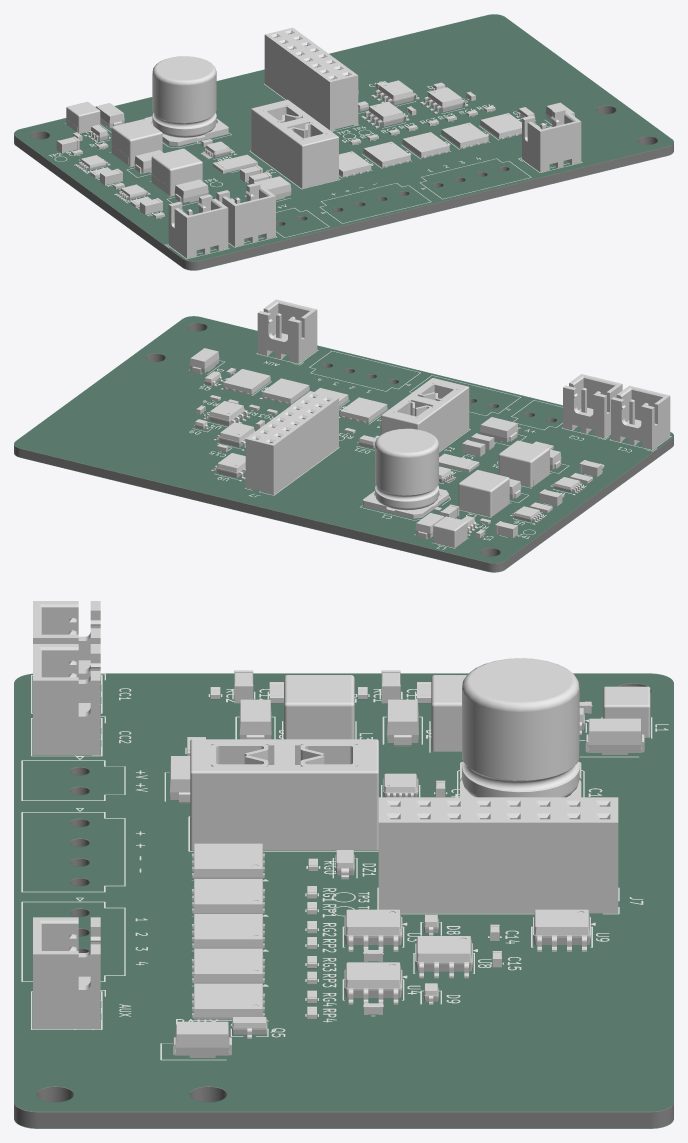
3 renders of one model, top to bottom at view 1: azimuth 30°, elevation 25°; view 2: azimuth 150°, elevation 25°; view 3: azimuth 270°, elevation 25°, orthographic. The views are drawn at different scales.
Parts seen in each view (by area): view 1: =>[0:1:1:28], =>[0:1:1:26], J7, F1, C1, J5, J6, =>[0:1:1:24], J8, L2, L3, L1 (+13 smaller); view 2: =>[0:1:1:28], =>[0:1:1:26], J7, C1, F1, J6, J5, J8, =>[0:1:1:24], L2, L3, L1 (+11 smaller); view 3: =>[0:1:1:28], =>[0:1:1:26], J7, F1, C1, =>[0:1:1:24], J8, J6, L3, J5, QR1, Q3 (+15 smaller).
Part boxes in pixels (x1,y1,x2,y2): =>[0:1:1:28]: (14,15,673,270); =>[0:1:1:26]: (14,14,673,261); J7: (264,27,358,131); F1: (251,99,338,188); C1: (144,56,228,146); J5: (168,194,228,258); J6: (522,108,581,172); =>[0:1:1:24]: (48,81,582,259); J8: (216,182,275,246); L2: (111,119,162,166); L3: (151,148,202,195); L1: (66,101,100,133); =>[0:1:1:28]: (14,317,673,572); =>[0:1:1:26]: (14,316,673,563); J7: (245,391,338,495); C1: (362,428,448,518); F1: (381,378,469,451); J6: (257,299,317,363); J5: (611,385,670,449); J8: (563,374,622,437); =>[0:1:1:24]: (189,350,671,549); L2: (458,470,509,516); L3: (498,440,549,487); L1: (433,516,467,547); =>[0:1:1:28]: (14,674,673,1128); =>[0:1:1:26]: (14,673,673,1111); J7: (378,797,618,913); F1: (190,739,378,850); C1: (460,658,581,797); =>[0:1:1:24]: (21,673,668,1060); J8: (33,644,100,755); J6: (33,917,100,1028); L3: (284,675,354,739); J5: (33,601,100,679); QR1: (192,843,264,879); Q3: (192,948,264,983).
Bounding box in the file's own units: 0.088 × 0.0139 × 0.056.
